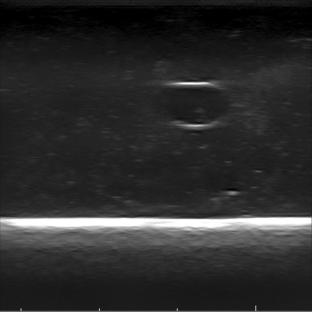vessel: (155, 81, 230, 131)
